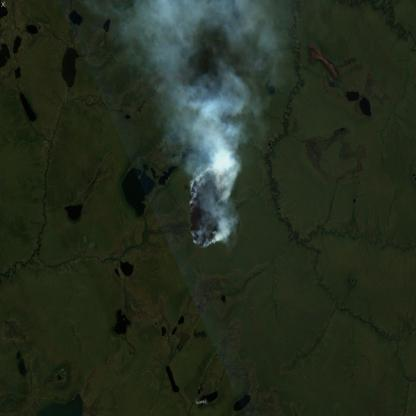fire: (186, 164, 225, 252)
